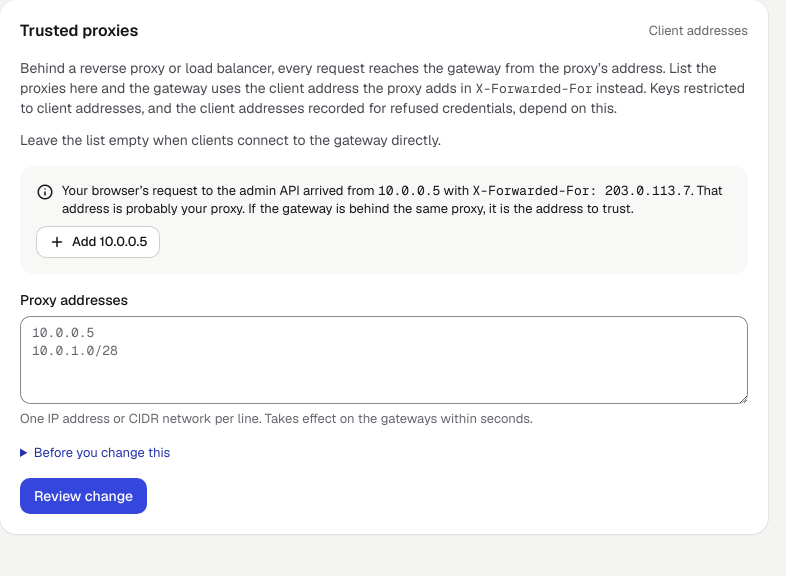
Test: TrustedProxiesCard › refuses proxy.example.se before asking for confirmation
Type "proxy.example.se" into the text box with id "trusted-proxies".
click(384, 360); type("proxy.example.se")  # box x1=20 y1=316 x2=748 y2=404
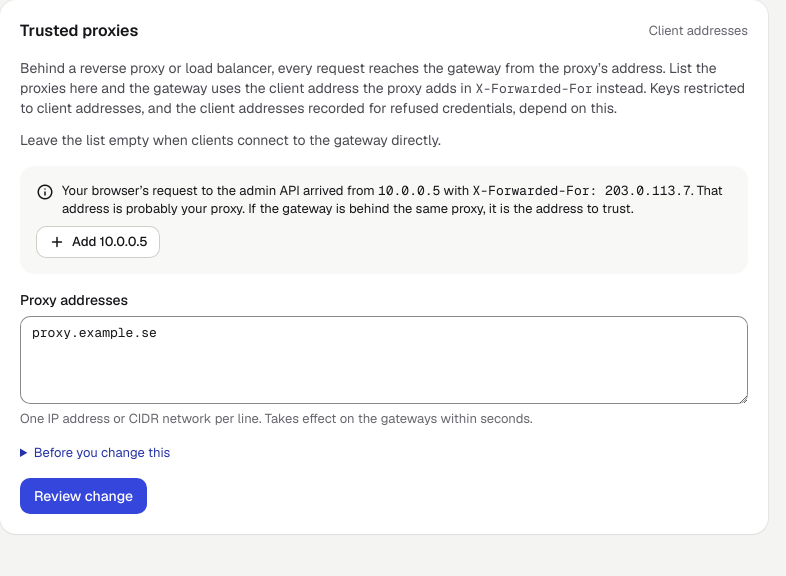
Submit the form, box x1=20 y1=290 x2=748 y2=514
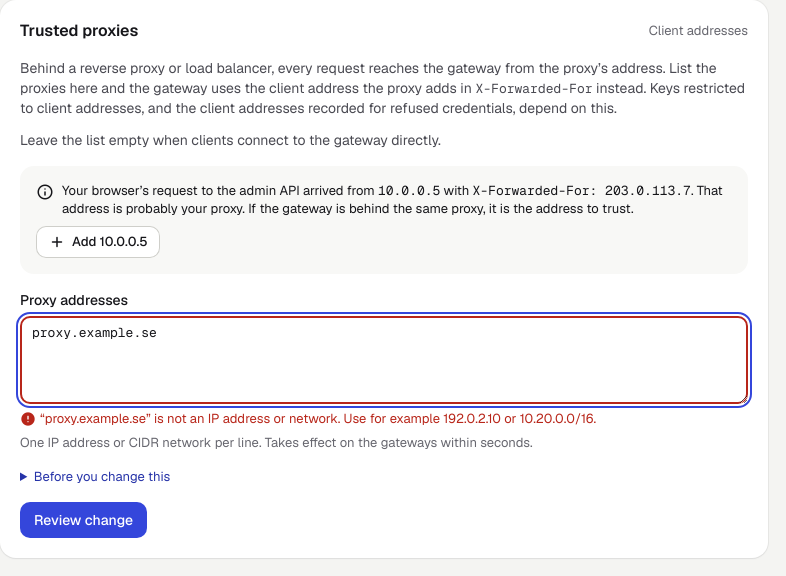
Expected: the text "not an IP address" is shown, x1=40 y1=410 x2=596 y2=427
